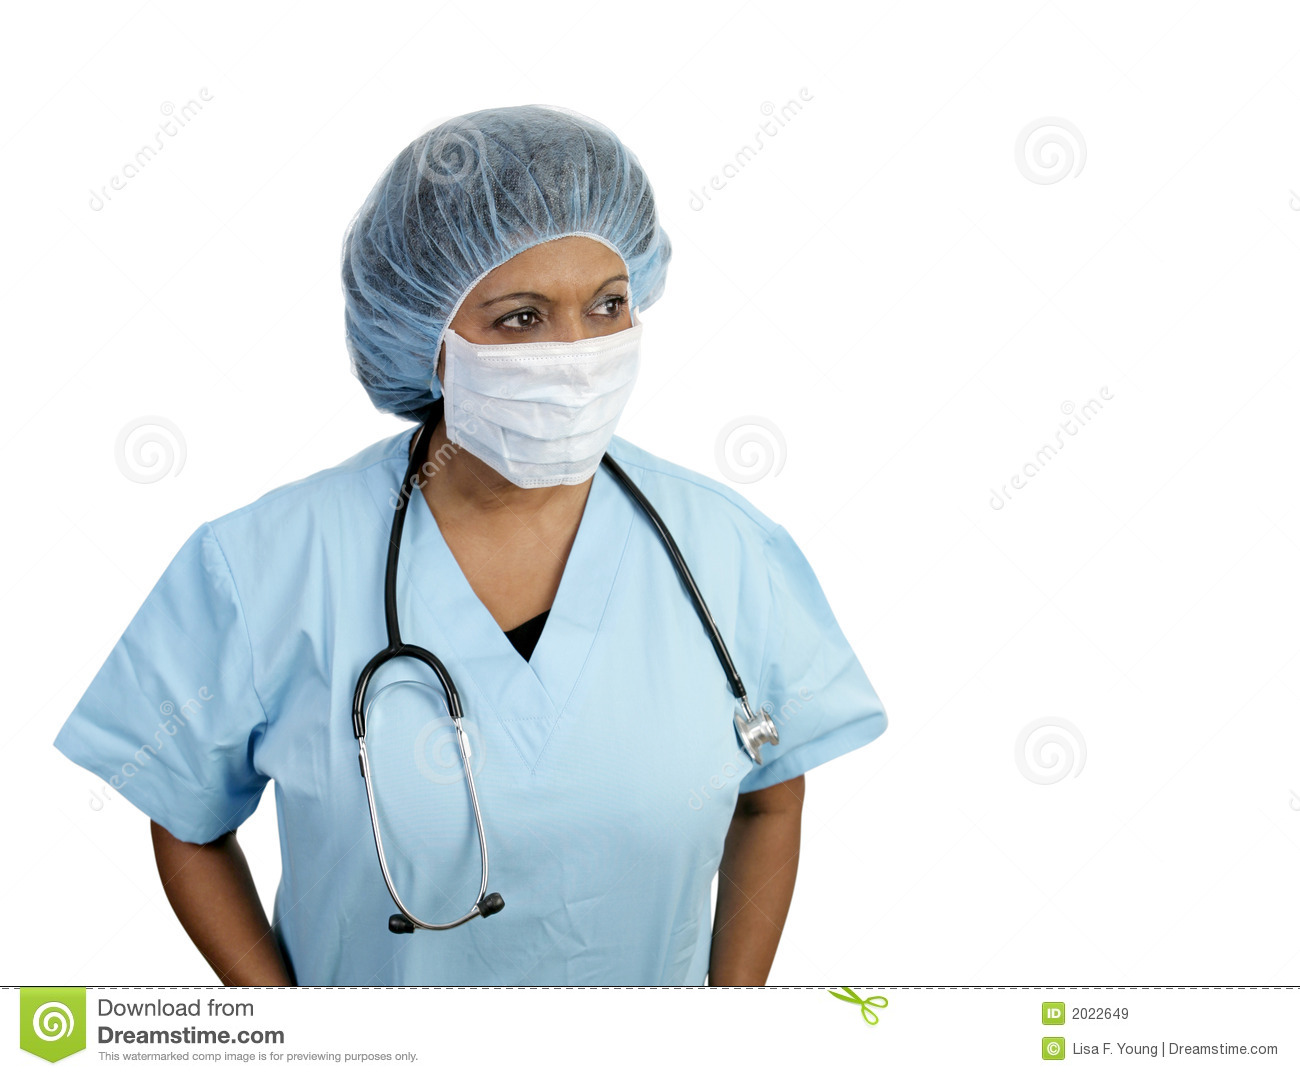mask: (437, 329, 637, 491)
